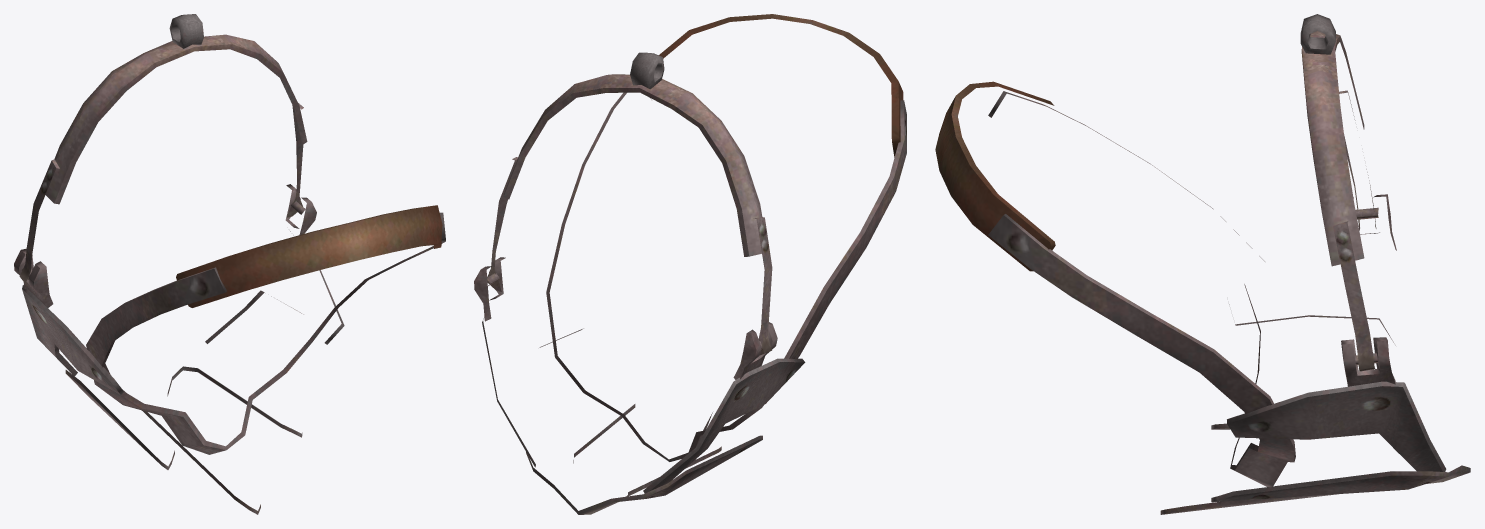
The model's file is madmask.glb.
3 renders of one model, left to right at view 1: azimuth 30°, elevation 25°; view 2: azimuth 150°, elevation 25°; view 3: azimuth 270°, elevation 25°, orthographic. The views are drawn at different scales.
Visible parts, largest first — view 1: Mad Mask; view 2: Mad Mask; view 3: Mad Mask.
Boxes of the visible parts, x1,y1,x2,y2 form: Mad Mask: (14,14,445,514); Mad Mask: (474,14,906,514); Mad Mask: (935,14,1470,514).
Size of the model in its own units: 0.1666 by 0.2496 by 0.2431.
Materials: 1 (1 with a texture image).
